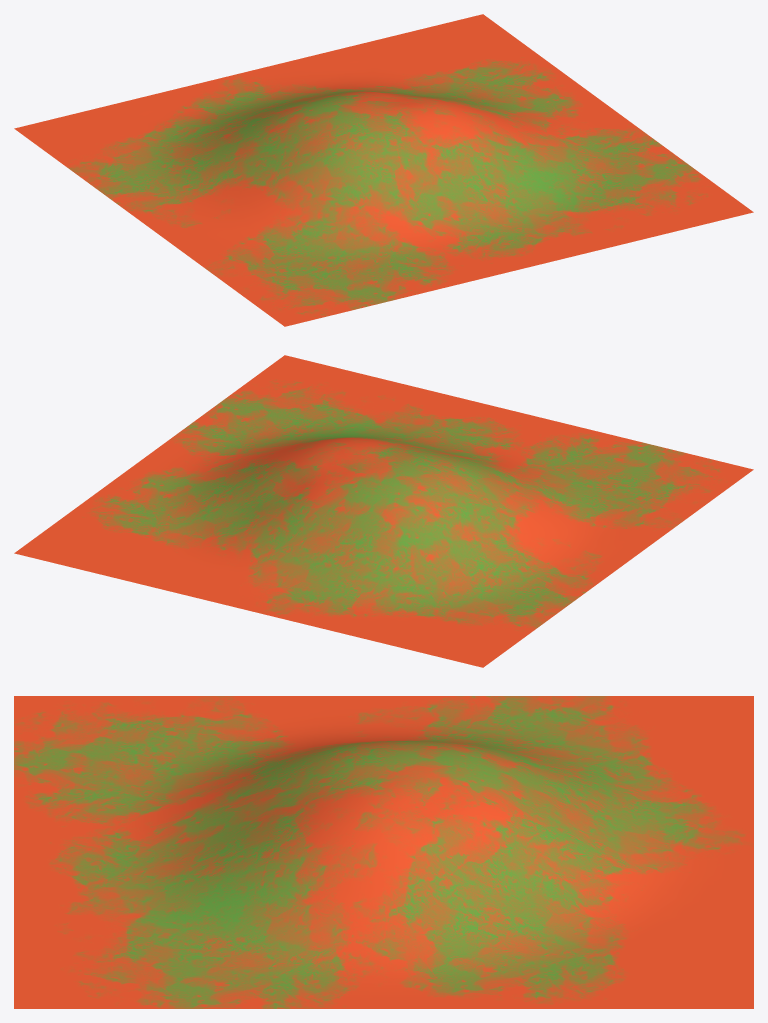
The model's file is Tile4.obj.
3 views of the same model, one above another, from view 1: azimuth 30°, elevation 25°; view 2: azimuth 150°, elevation 25°; view 3: azimuth 270°, elevation 25° (orthographic). The views are drawn at different scales.
Visible parts, largest first — view 1: Tile4_Plane.008; view 2: Tile4_Plane.008; view 3: Tile4_Plane.008.
Boxes of the visible parts, bbox=[...] form: Tile4_Plane.008: bbox=[14, 14, 753, 326]; Tile4_Plane.008: bbox=[14, 355, 753, 667]; Tile4_Plane.008: bbox=[14, 696, 753, 1008].
Bounding box in the file's own units: 30 × 3.37 × 30.
